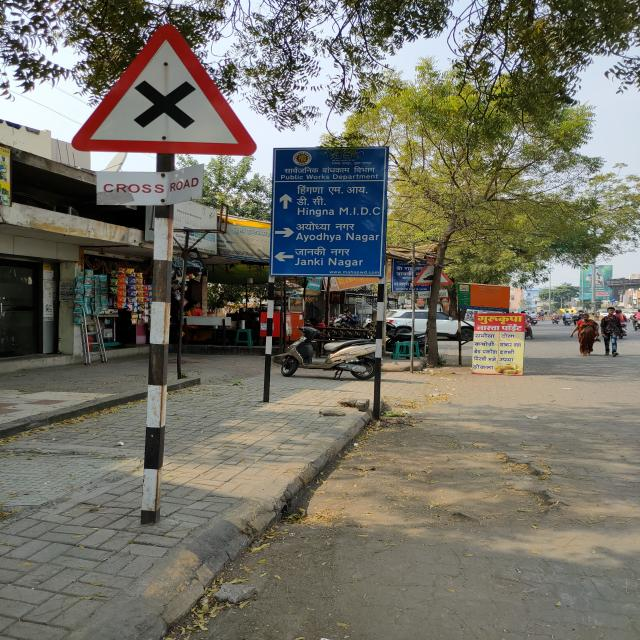CROSS_ROAD: (69, 22, 261, 161)
